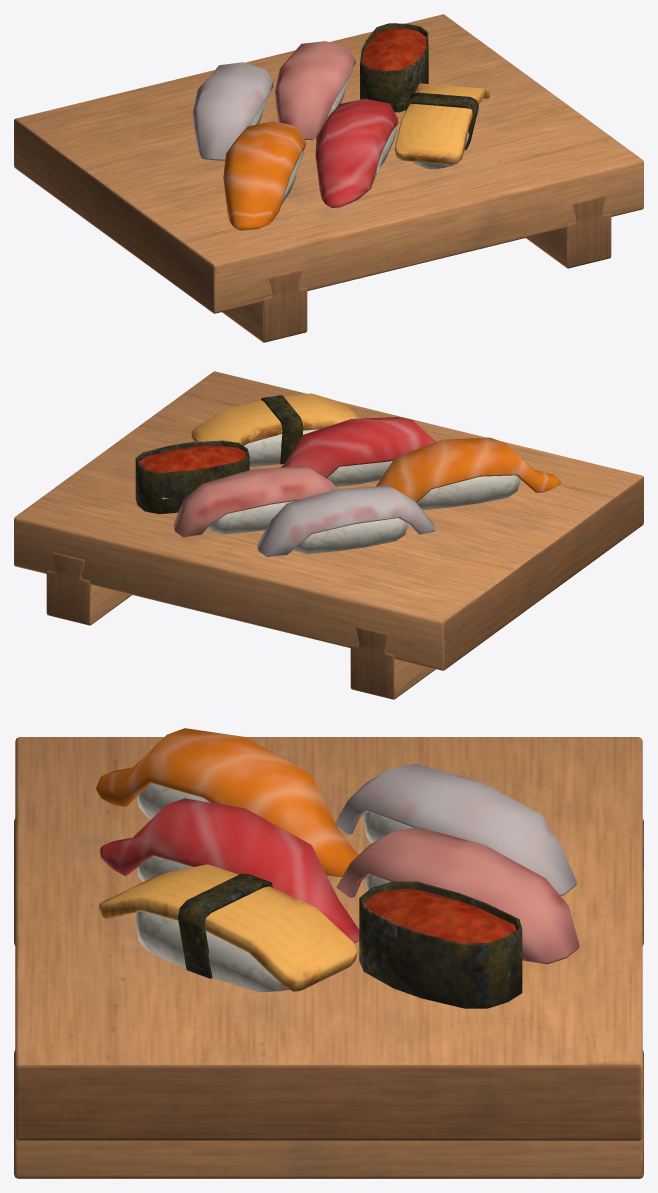
File: Sushi.fbx
3 views of the same model, one above another, from view 1: azimuth 30°, elevation 25°; view 2: azimuth 150°, elevation 25°; view 3: azimuth 270°, elevation 25° (orthographic). The views are drawn at different scales.
Visible parts, largest first — view 1: Sushi; view 2: Sushi; view 3: Sushi.
Part boxes in pixels (box(x1,y1,x2,y2)): Sushi: box(14, 14, 643, 342); Sushi: box(14, 371, 643, 699); Sushi: box(14, 728, 643, 1178).
Size of the model in its own units: 0.4099 by 0.1289 by 0.3326.
